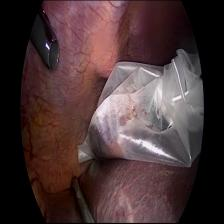Specimen Bag: (73, 52, 201, 171)
